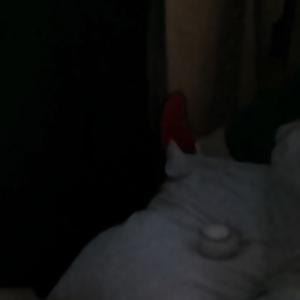ball: (198, 222, 241, 265)
